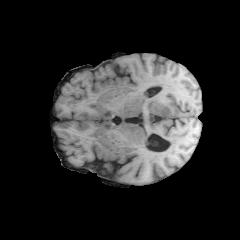glioma: (142, 80, 171, 116)
